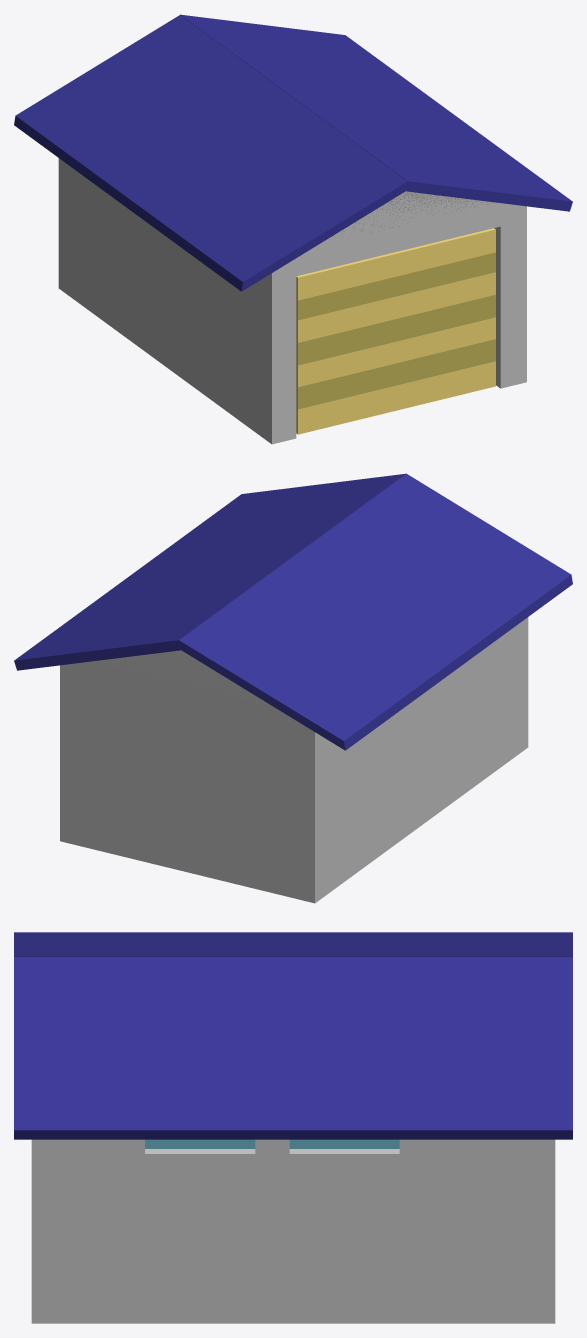
Rendered from garage.fbx.
3 views of the same model, one above another, from view 1: azimuth 30°, elevation 25°; view 2: azimuth 150°, elevation 25°; view 3: azimuth 270°, elevation 25° (orthographic). The views are drawn at different scales.
Parts seen in each view (by area): view 1: Plane, Cube, Cube.001; view 2: Plane, Cube; view 3: Plane, Cube.
Boxes of the visible parts, x1,y1,x2,y2 form: Plane: (14,14,572,291); Cube: (58,158,526,444); Cube.001: (296,228,495,434); Plane: (14,473,572,750); Cube: (60,617,528,903); Plane: (14,932,572,1139); Cube: (31,1139,555,1323).
Bounding box in the file's own units: 260 × 178 × 309.
